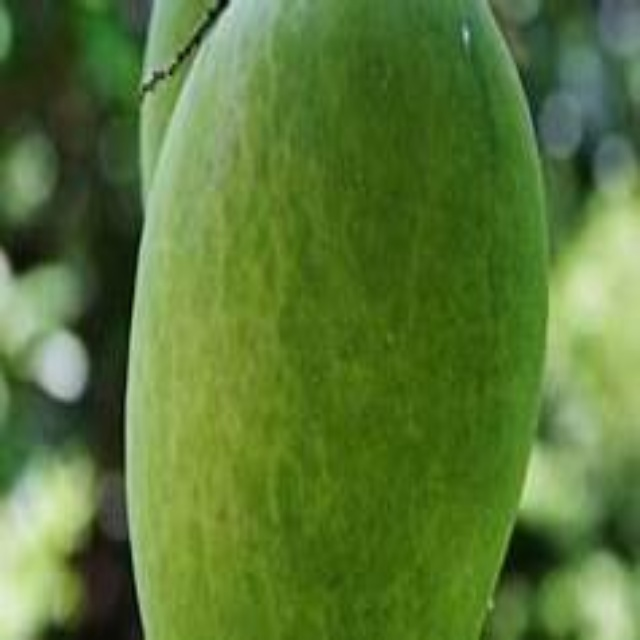mango: (124, 5, 549, 636)
